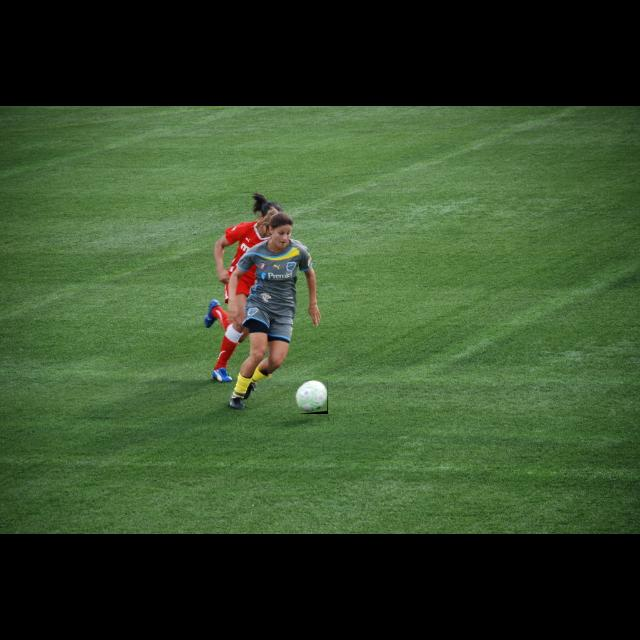Football: (298, 380, 328, 414)
